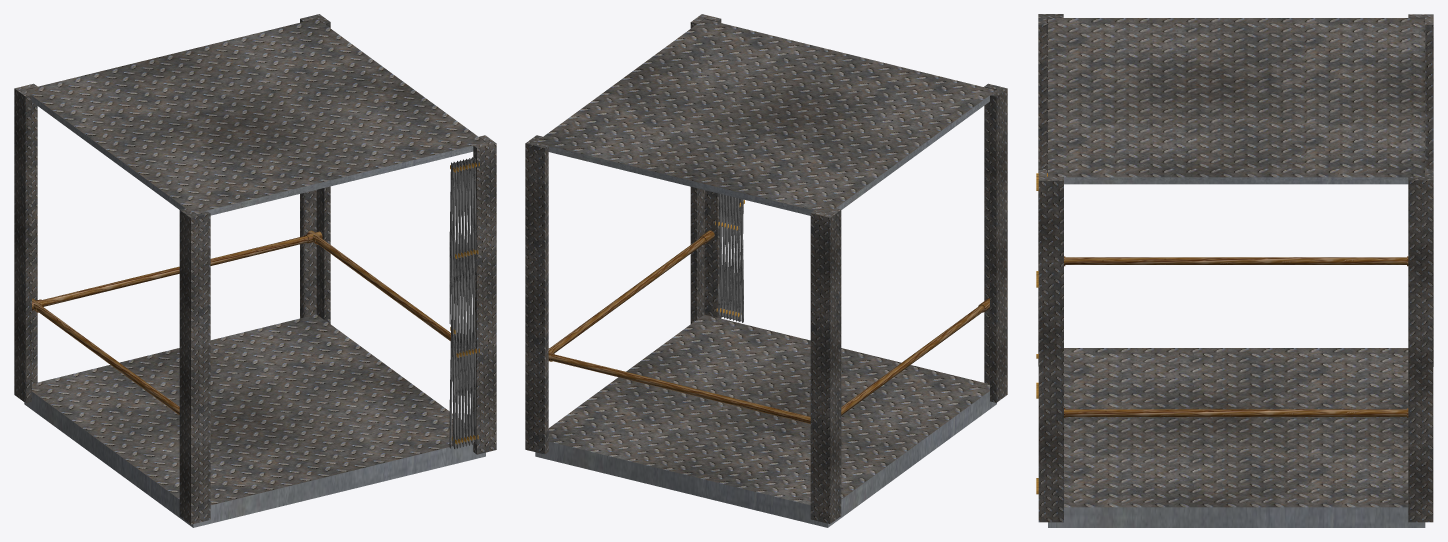
The model's file is Elevator.fbx.
3 views of the same model, side by side, from view 1: azimuth 30°, elevation 25°; view 2: azimuth 150°, elevation 25°; view 3: azimuth 270°, elevation 25° (orthographic). The views are drawn at different scales.
Visible parts, largest first — view 1: Base.002, Base.014; view 2: Base.002, Base.014; view 3: Base.002.
Boxes of the visible parts, x1,y1,x2,y2 form: Base.002: (14, 14, 496, 527); Base.014: (449, 157, 479, 448); Base.002: (525, 14, 1007, 527); Base.014: (715, 193, 744, 322); Base.002: (1038, 14, 1433, 527).
Size of the model in its own units: 3.98 by 3.91 by 4.01.
